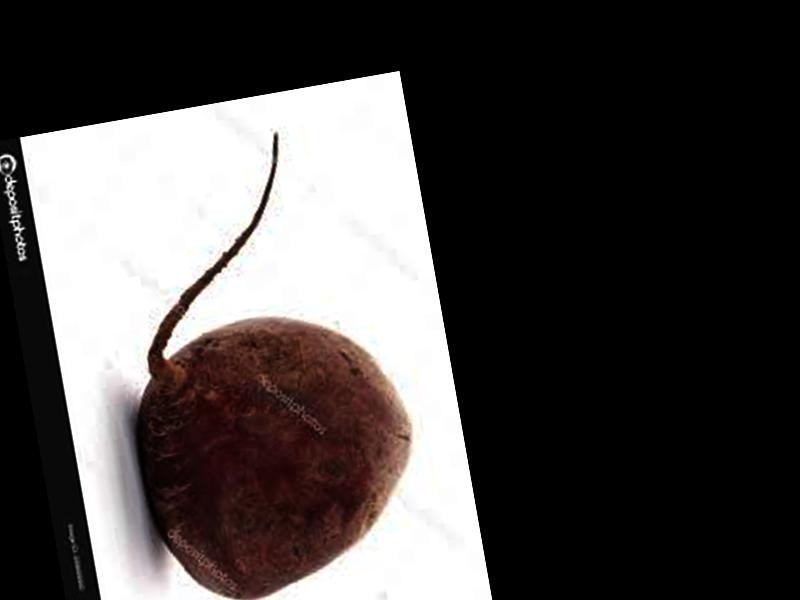Beet: (89, 121, 431, 600)
